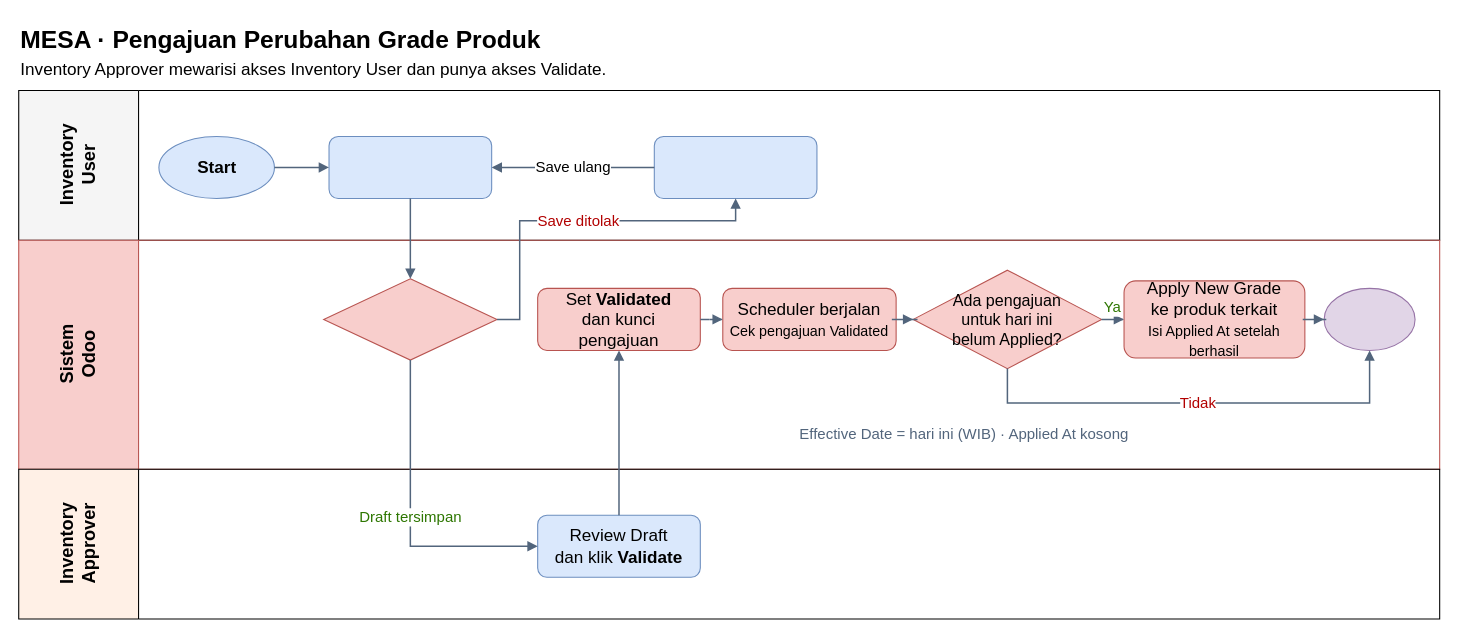
The diagram is 1458 pixels wide and 638 high, and some of its shapes have lost their labels. Each missing label, with the centre of its shape:
Effective Date minimal H+1?: point 410,319
End: point 1369,318
Isi header dan produk Save Draft: point 410,166
Koreksi Effective Date: point 735,166
